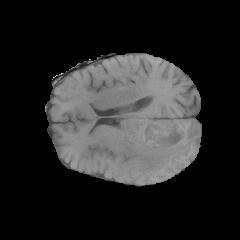glioma: (121, 119, 199, 173)
